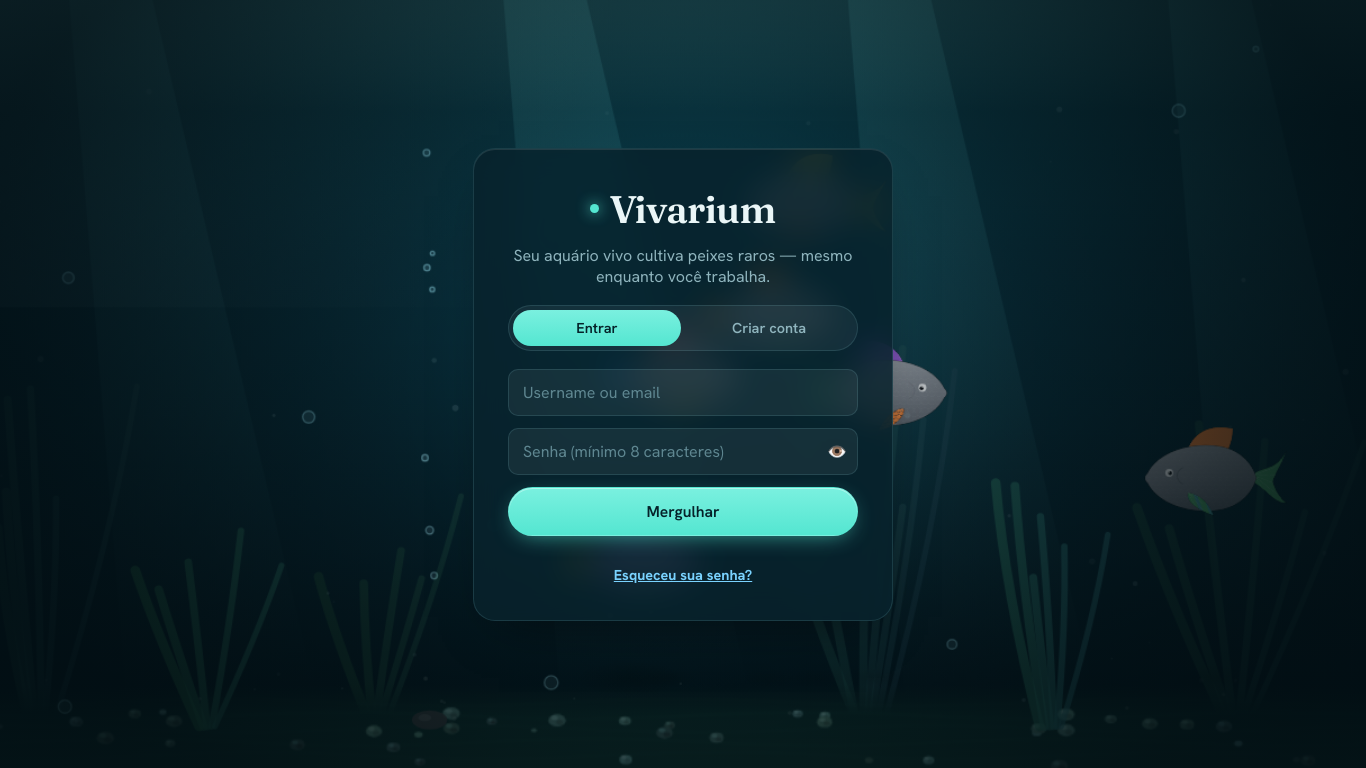
Test: Mochila › listar no mercado via prompt de preço
Type "jogador1" into the field with placeholder "Username ou email" at (683, 393), box [508,369,858,416]
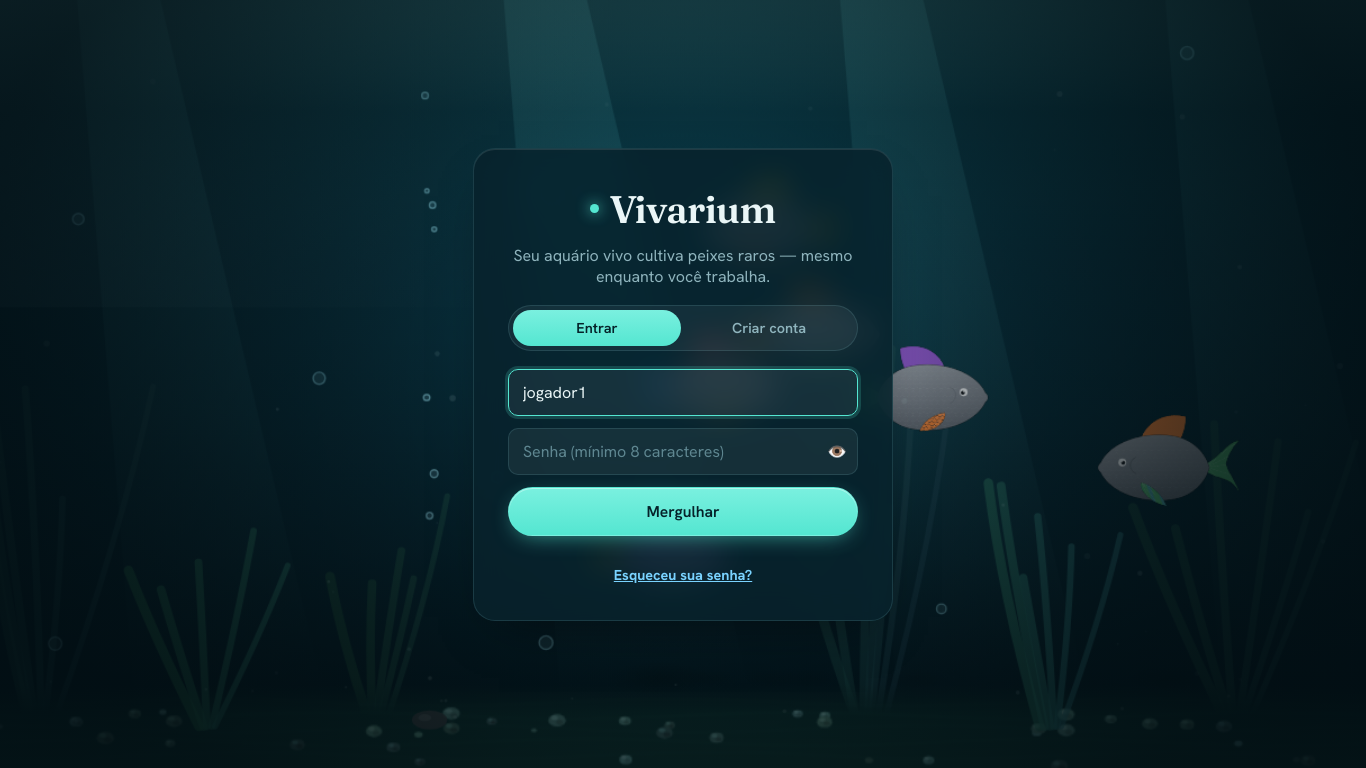
Type "senha-forte-123" into the password field with placeholder "Senha (mínimo 8 caracteres)" at (683, 452), box [508,428,858,475]
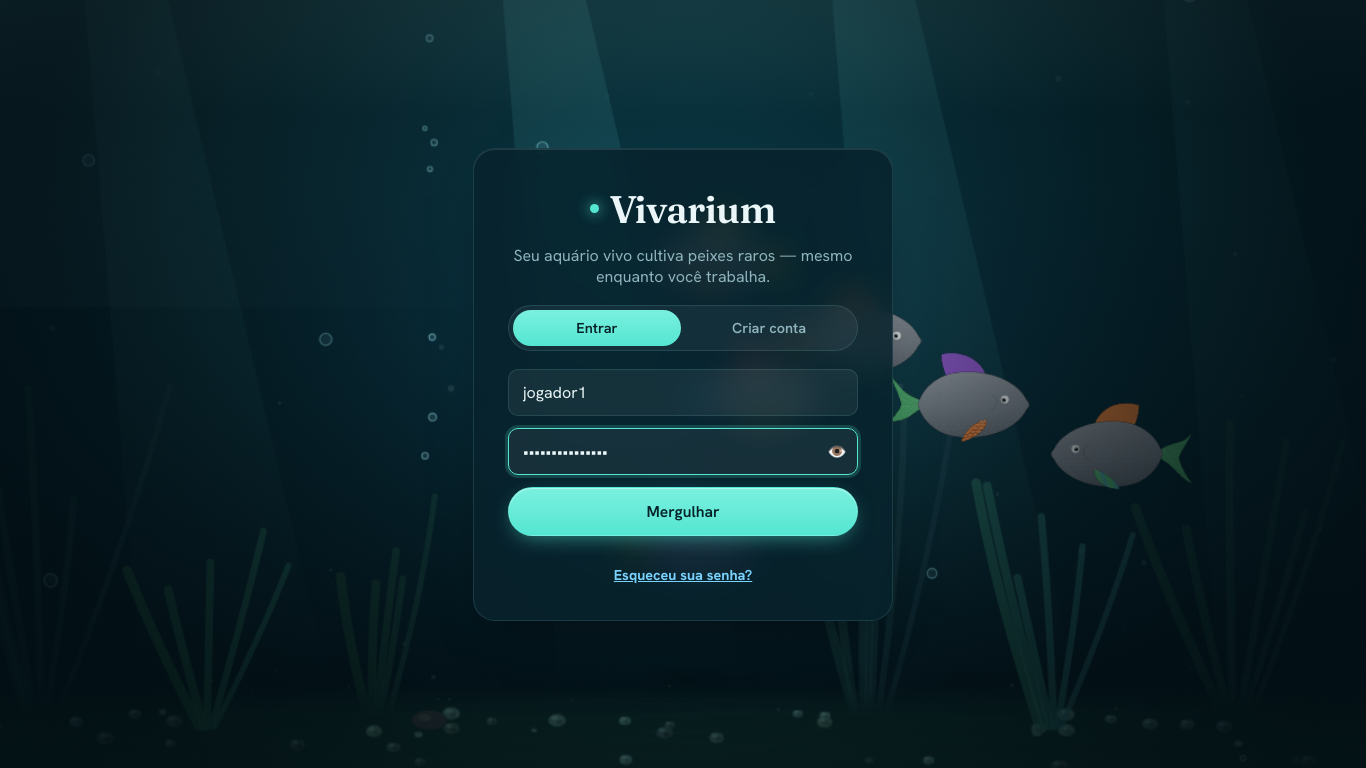
Click the button "Mergulhar" at (683, 512), box [508,487,858,536]
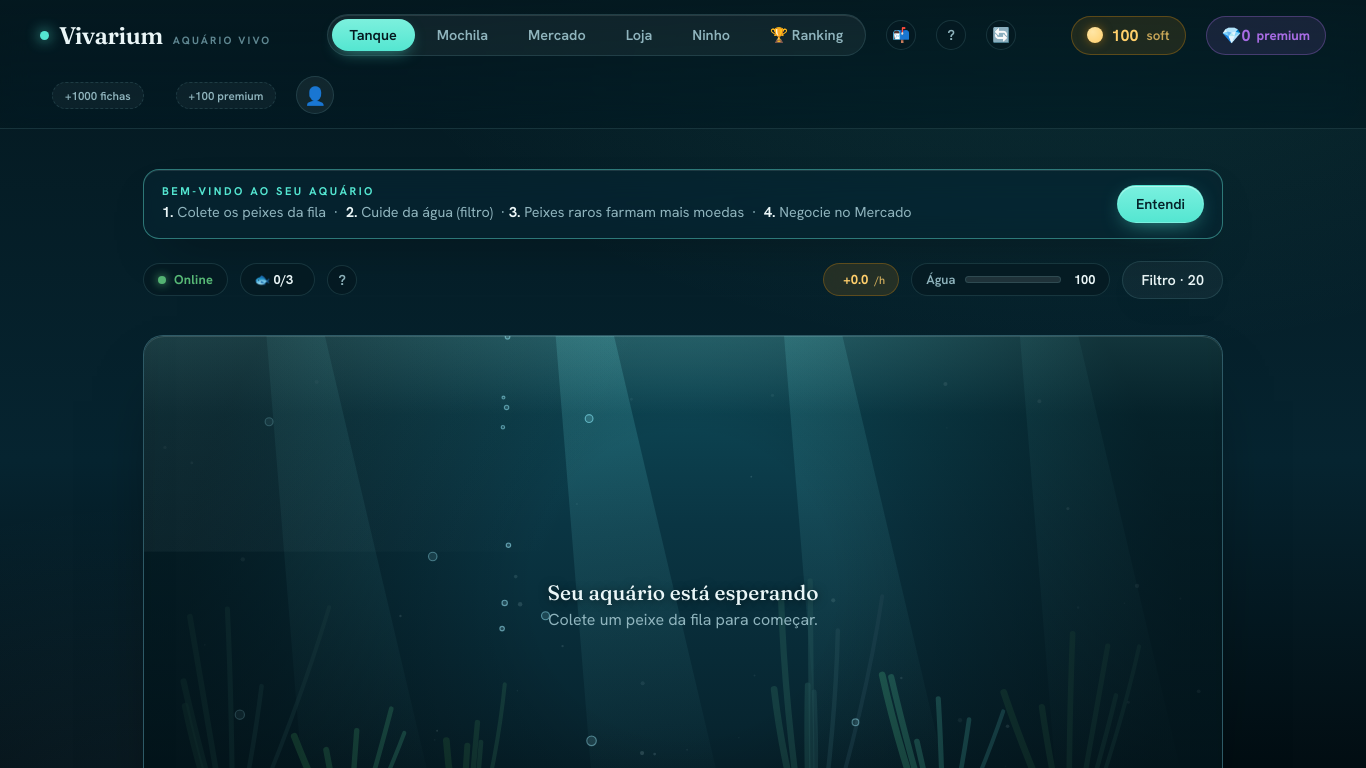
Click the button "Mochila" at (463, 35), box [419,19,506,51]
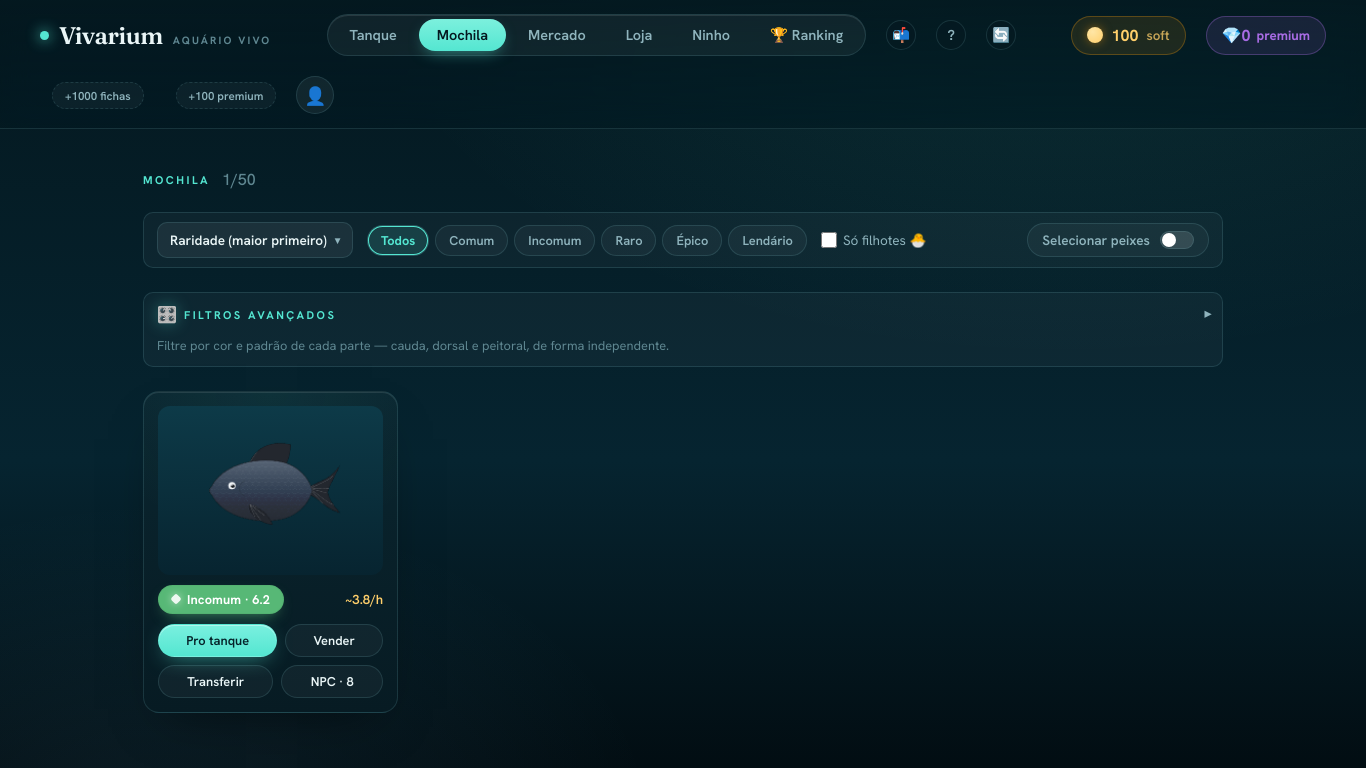
Click the button "Vender" at (334, 641), box [285,624,383,657]
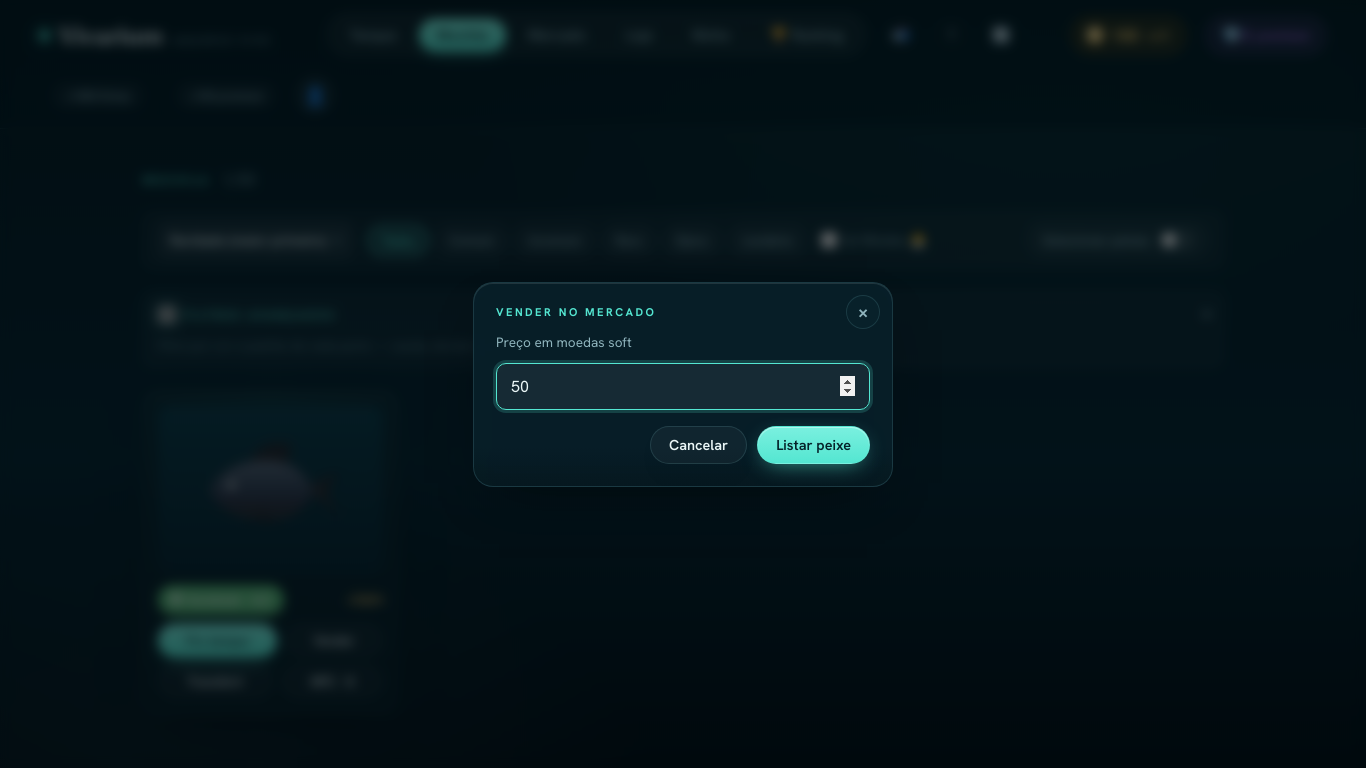
Check: the text "Vender no mercado" is shown, box [496,304,656,318]
Replace the text in the number field with "75" at (683, 387), box [496,363,870,410]
Click the button "Listar peixe" at (814, 445), box [757,426,870,464]
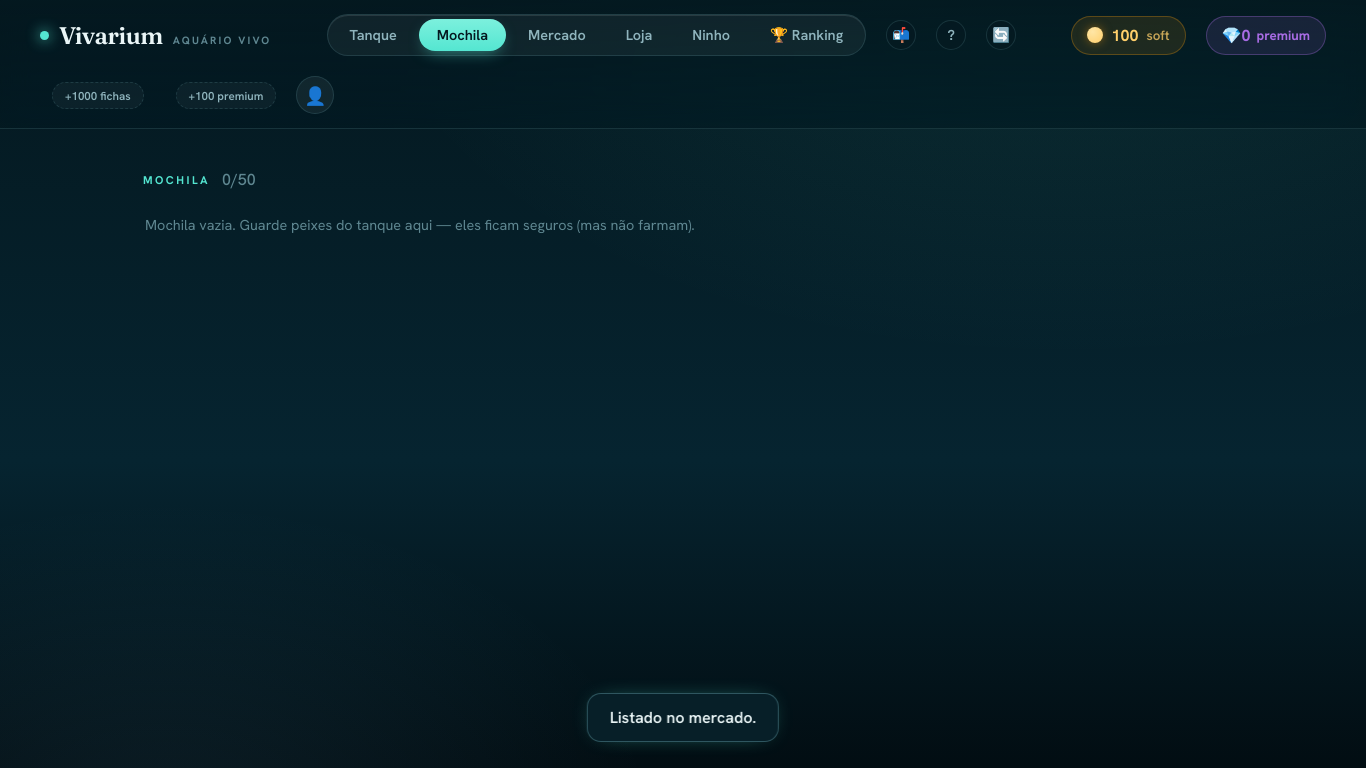
Check: the text "Listado no mercado." is shown, box [587,693,779,742]
